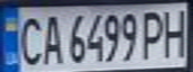4: (84, 10, 106, 63)
6: (63, 10, 87, 64)
9: (118, 9, 142, 62), (103, 10, 124, 63)
A: (36, 11, 66, 65)
C: (12, 12, 45, 66)
H: (157, 6, 193, 58)
P: (139, 7, 169, 60)
